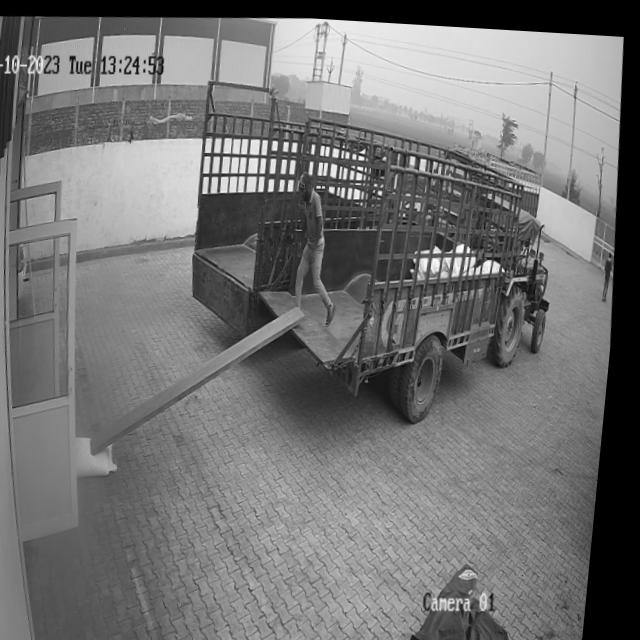sack: (81, 433, 129, 477)
